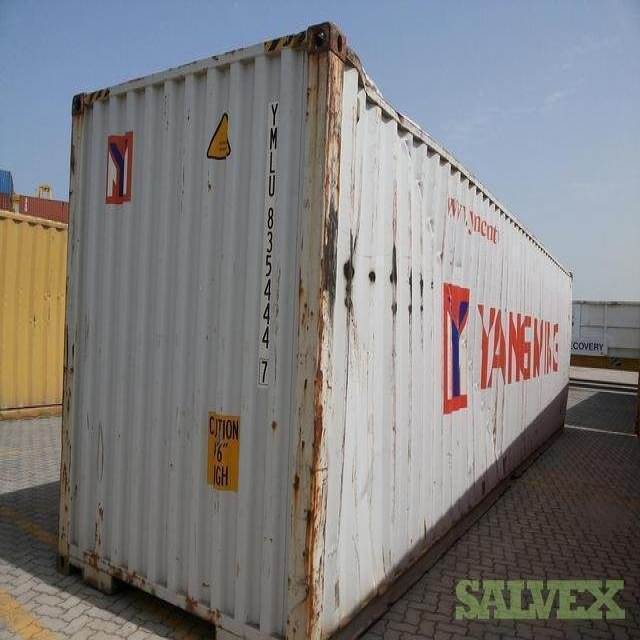dent: (342, 220, 380, 326), (484, 373, 508, 477)
hole: (343, 35, 419, 138)
rust: (299, 30, 341, 632), (55, 319, 79, 506), (85, 428, 114, 570), (56, 92, 96, 175)
